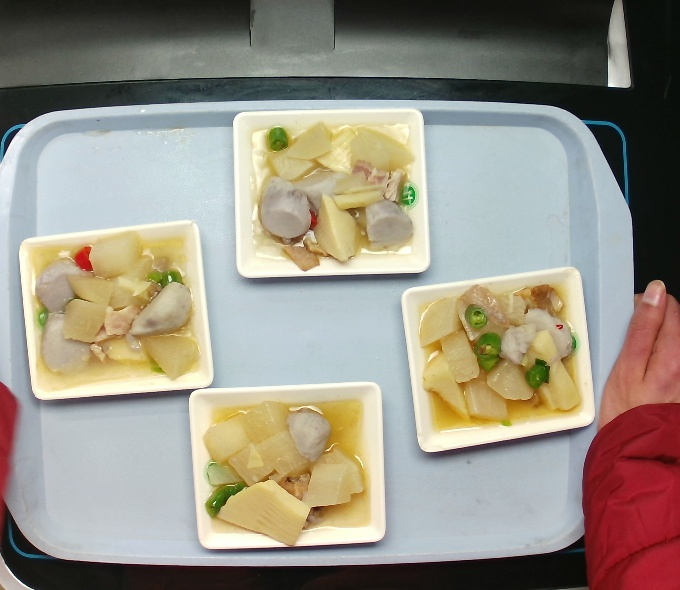wcq-YangYuChunSunDunLuoBo: (410, 276, 593, 435), (26, 228, 198, 387), (252, 116, 425, 274), (199, 396, 373, 552)
